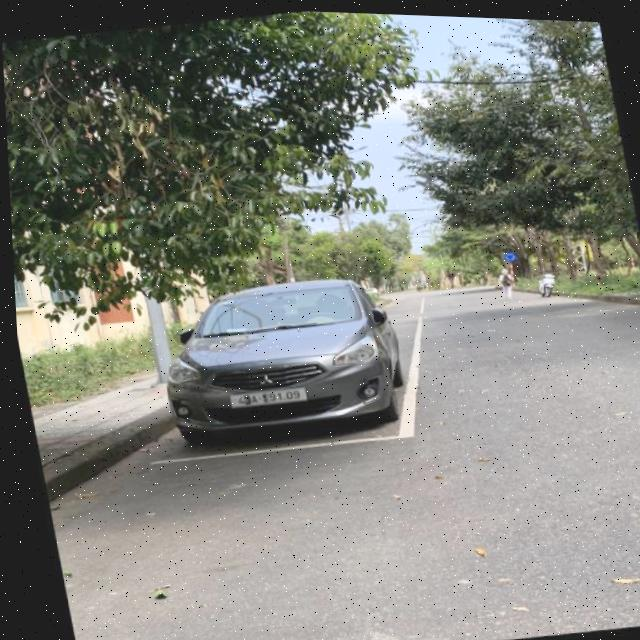car: (151, 265, 418, 463)
plate: (224, 377, 313, 417)
